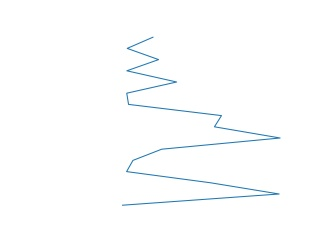majorRiverBedLagDeposit: (118, 36, 283, 208)
